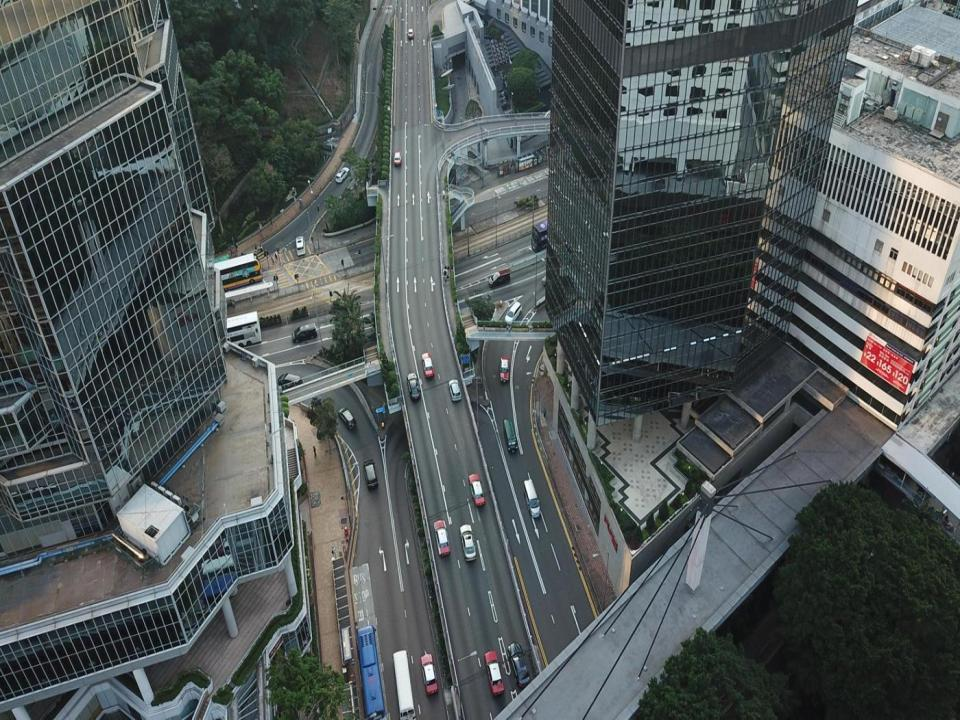bus: (186, 251, 264, 304), (172, 310, 262, 354), (352, 625, 386, 717), (530, 217, 583, 251), (391, 651, 417, 719)
car: (506, 635, 534, 685), (484, 649, 505, 696), (420, 647, 438, 698), (458, 522, 477, 564), (434, 518, 452, 557), (361, 457, 380, 493), (469, 473, 485, 509), (274, 373, 301, 394), (487, 268, 513, 287), (337, 407, 358, 430), (421, 352, 438, 376), (498, 356, 511, 385), (409, 374, 422, 402), (335, 166, 349, 185), (450, 380, 461, 403), (393, 150, 404, 170), (409, 29, 415, 41)
van: (524, 476, 542, 520), (291, 322, 319, 346), (505, 301, 524, 328), (505, 419, 517, 452), (296, 235, 305, 256)
